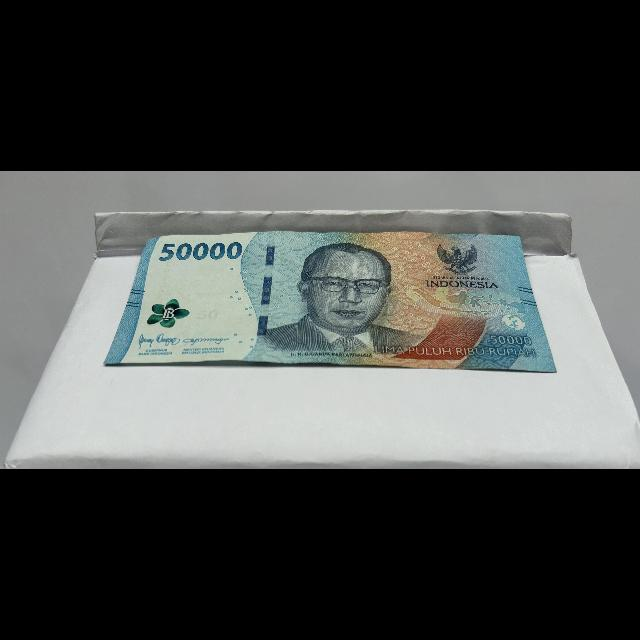Asli-50k: (100, 232, 561, 374)
Tinta-Asli-50k: (145, 298, 193, 329)
